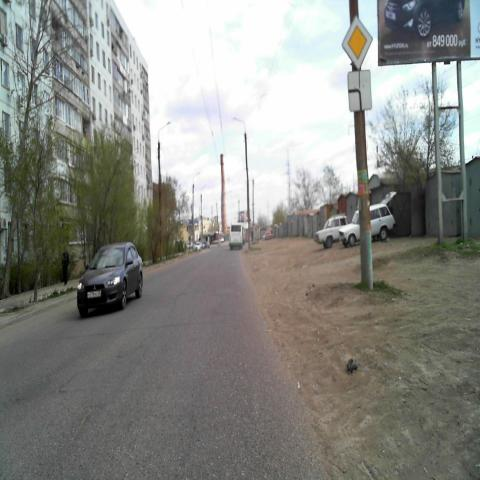2_1: (341, 15, 373, 69)
8_13: (347, 70, 372, 112)
